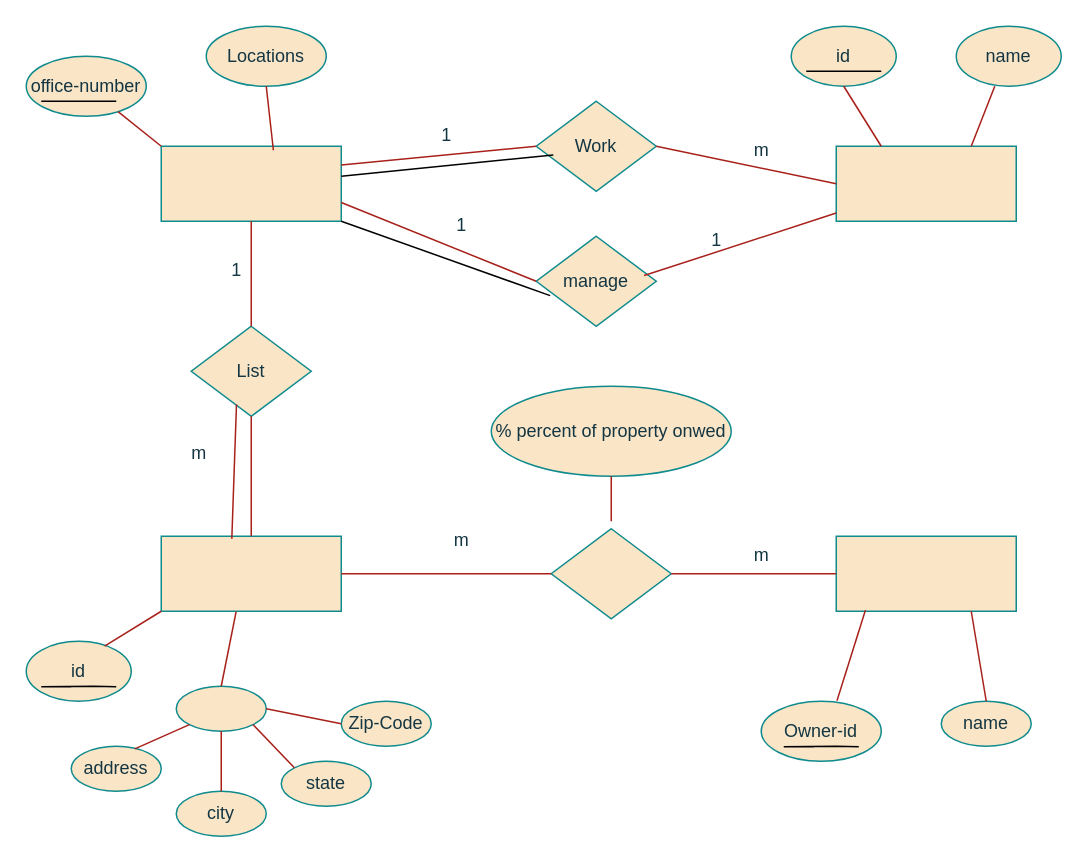
Some shapes in this 1088 by 863 pixel diagram are drawn without their labels. Here are the shapes that lost their labels. From the top down, the centre of each, then its label:
point 250,183: Sales-Offices
point 925,183: Empolyees
point 250,573: Properties
point 610,573: Owned-by
point 925,573: Owners
point 220,708: location
